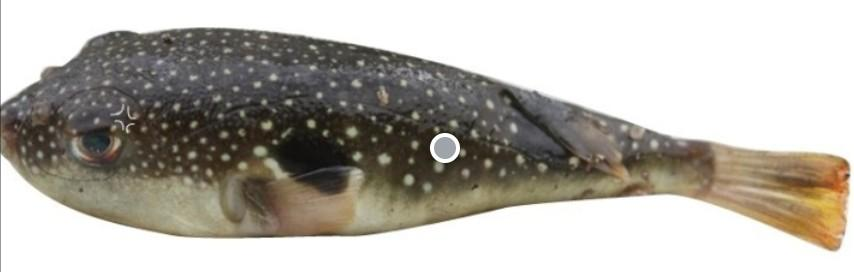fish: (0, 28, 849, 250)
